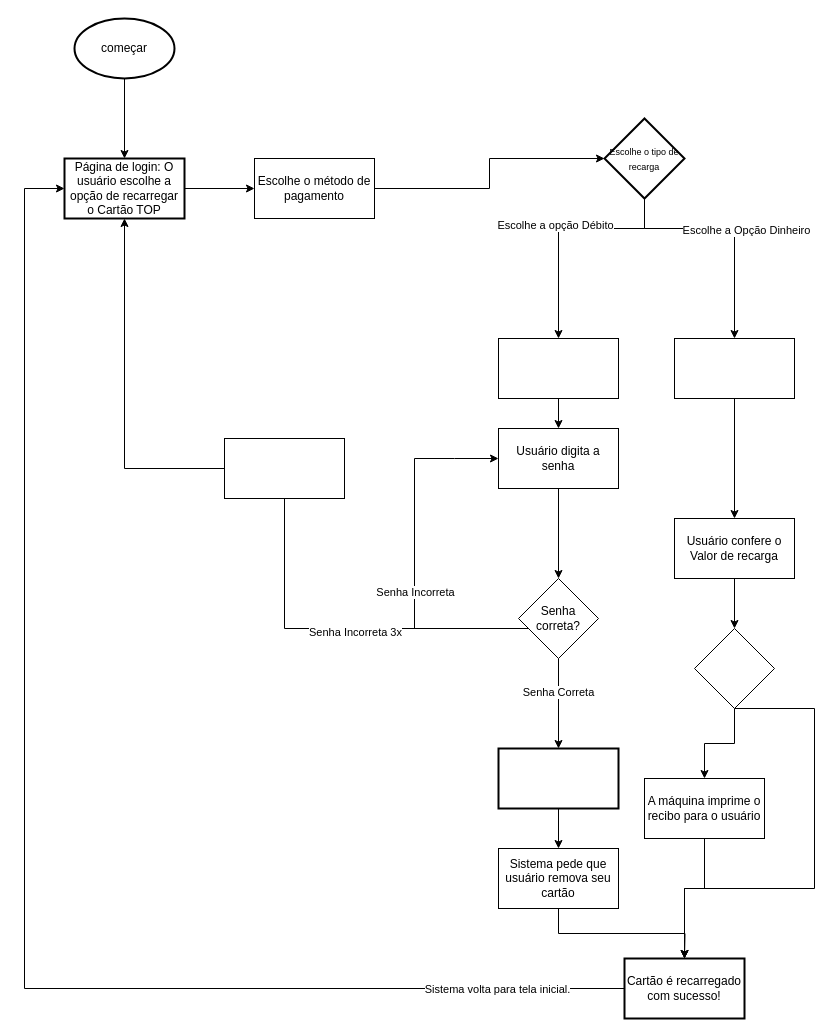
This 840x1036 diagram has some shape labels left out. The centre of each missing label's shape, as x and y in pixels:
"Compra no cartão é aprovada" belongs at pixel 558 778.
"Usuário escolhe se deseja ou não imprimir o recibo" belongs at pixel 734 668.
"Usuário insere o dinheiro" belongs at pixel 734 368.
"Usuário Insere seu cartão" belongs at pixel 558 368.
"Usuário tem seu cartão bloqueado" belongs at pixel 284 468.
